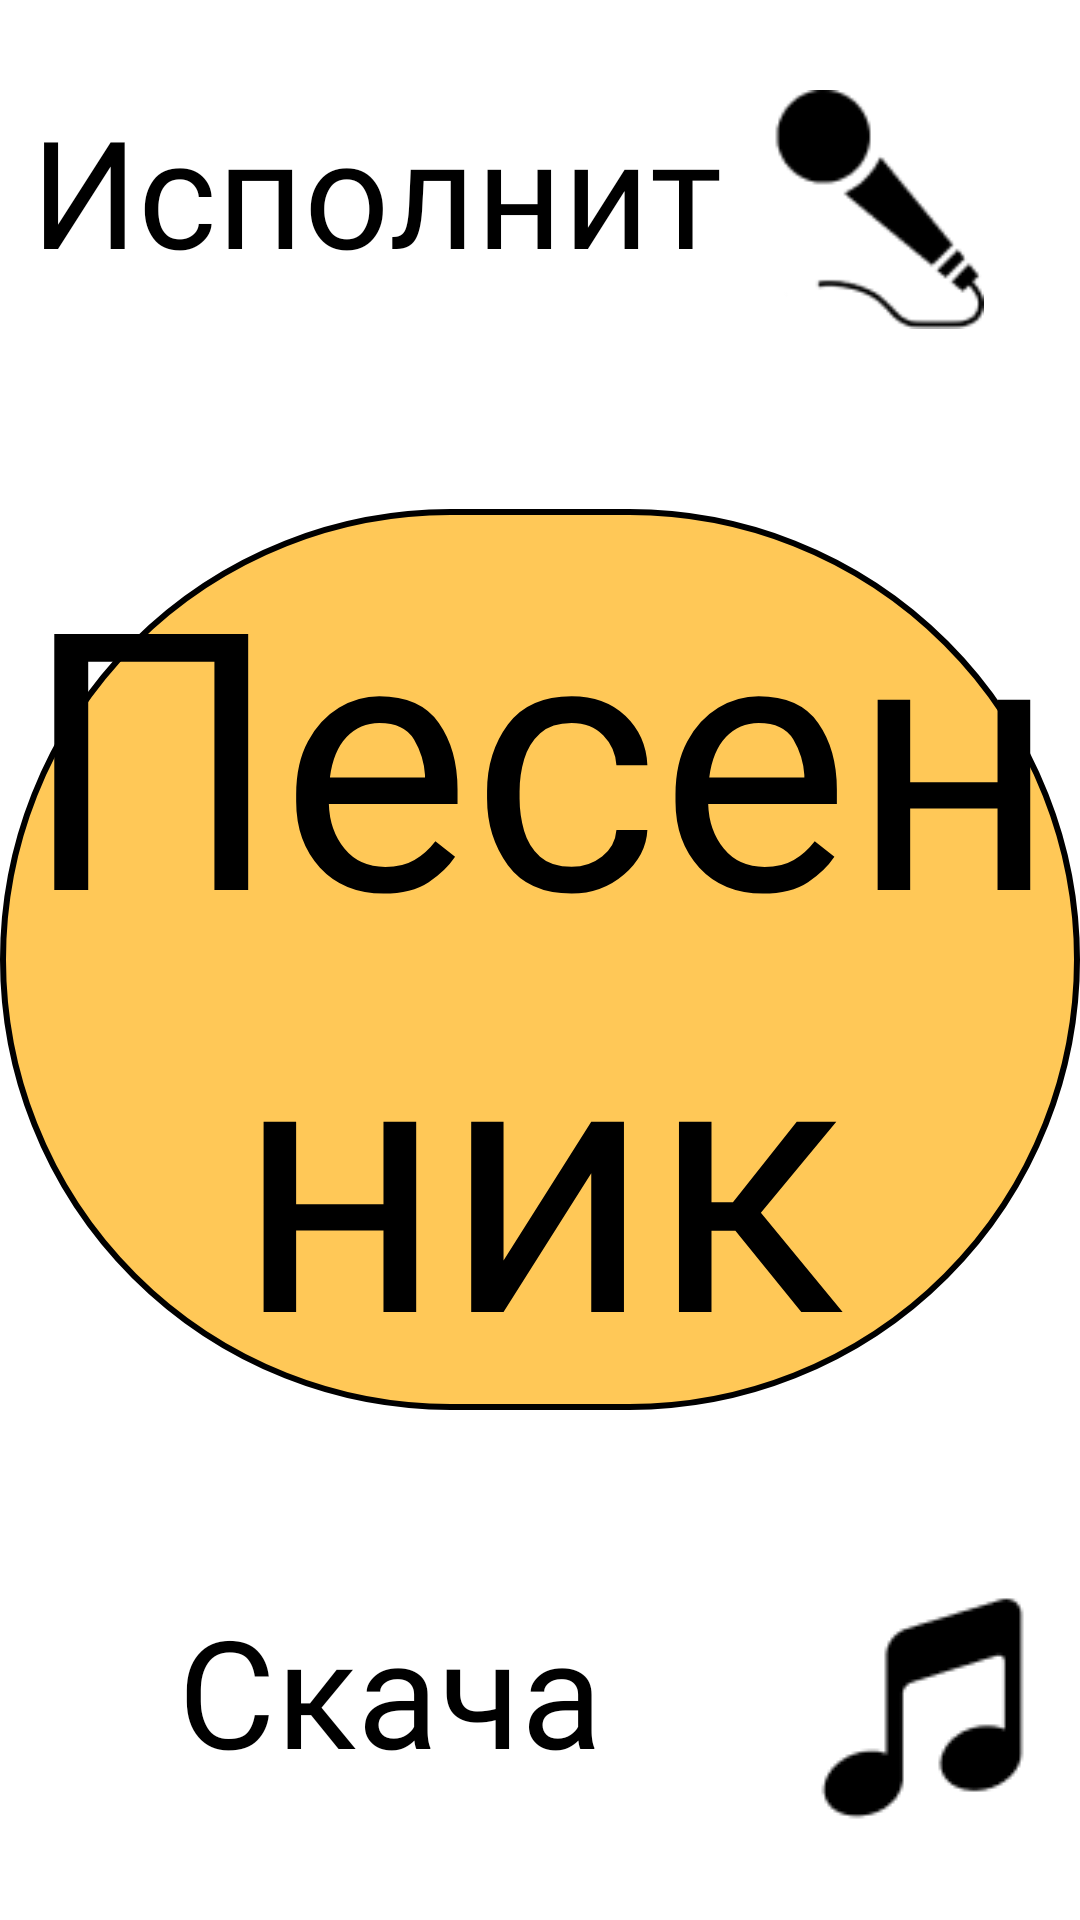

Screen size 1080*1920. Icon name, then its box in pixels as (x1, y1, x2, y2):
micro: (775, 90, 984, 329)
nota: (821, 1598, 1024, 1819)
